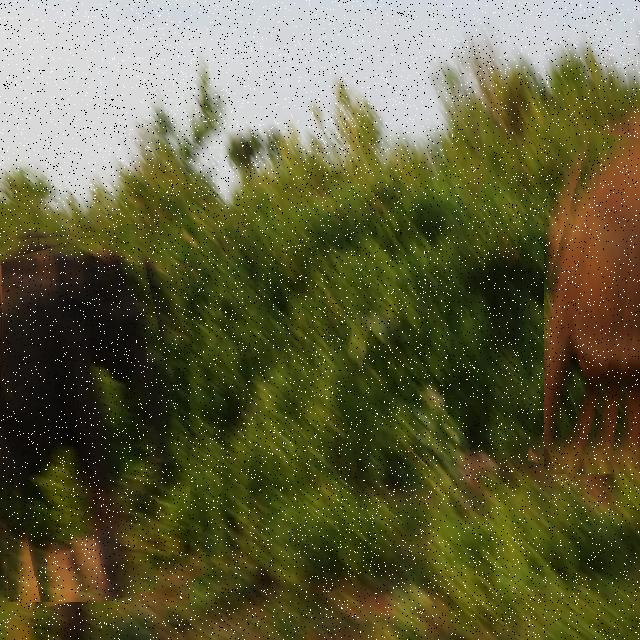elephant: (0, 229, 190, 602), (544, 132, 640, 474)
